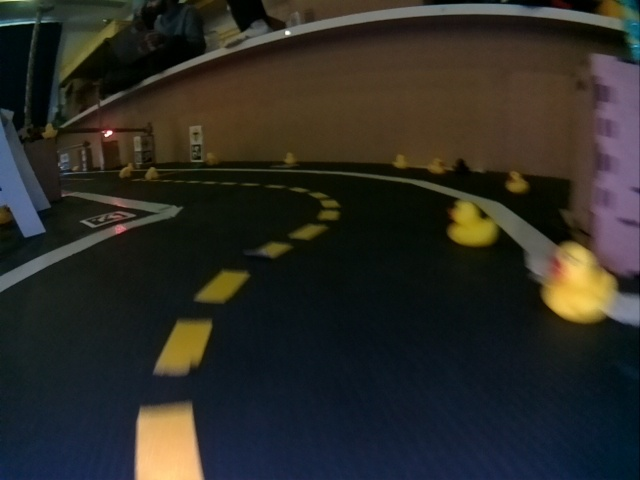Duckie: (542, 245, 616, 325), (448, 202, 496, 246), (506, 172, 528, 194), (429, 158, 443, 174), (42, 124, 58, 138), (393, 154, 407, 168), (206, 153, 219, 166), (146, 167, 158, 180), (120, 167, 131, 177), (285, 153, 295, 162)
Intersection sign: (190, 129, 200, 142)
QR code: (82, 211, 134, 228), (142, 150, 154, 165), (191, 144, 201, 161)
